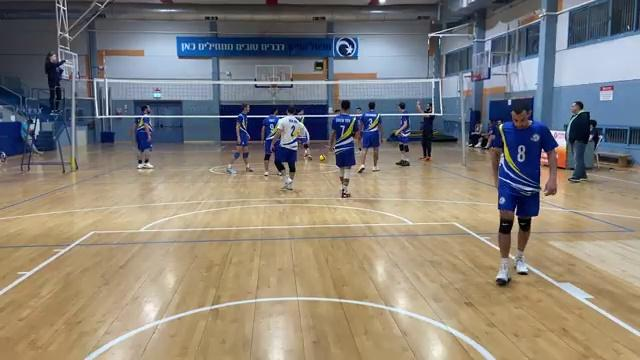ball: (319, 153, 330, 165)
